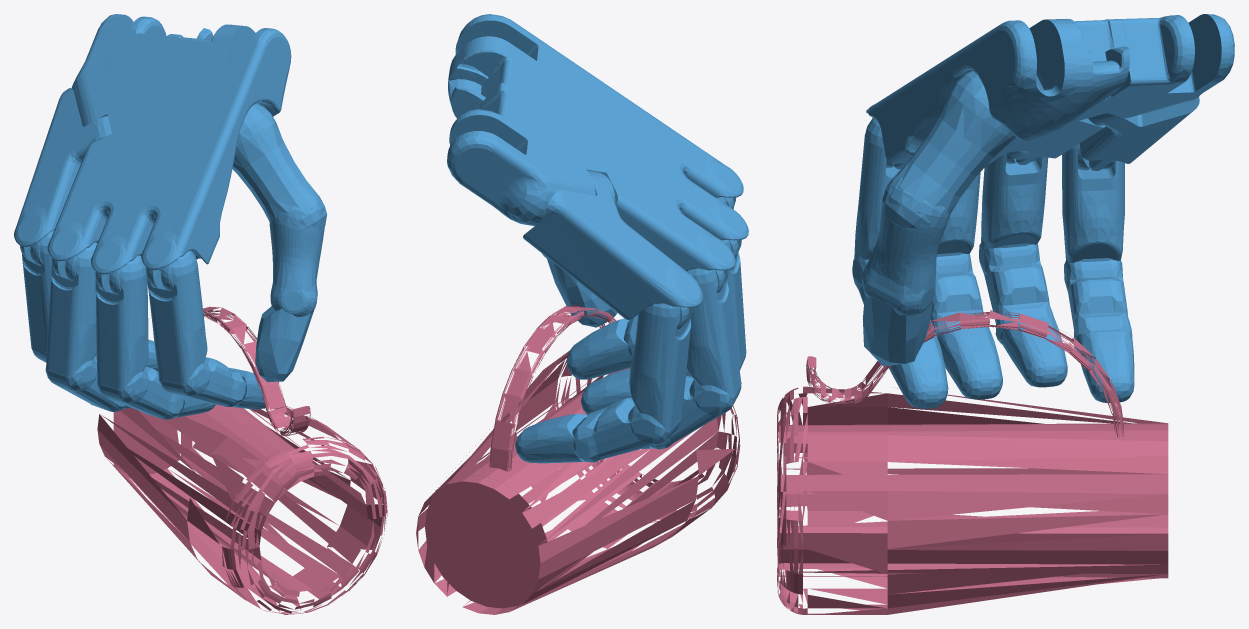
3 views of the same model, side by side, from view 1: azimuth 30°, elevation 25°; view 2: azimuth 150°, elevation 25°; view 3: azimuth 270°, elevation 25° (orthographic). The views are drawn at different scales.
Visible parts, largest first — view 1: 1; view 2: 1; view 3: 1.
Part boxes in pixels (x1=…): 1: x1=14, y1=14, x2=387, y2=614; 1: x1=416, y1=14, x2=748, y2=614; 1: x1=777, y1=14, x2=1234, y2=614.
Size of the model in its own units: 0.1108 by 0.2143 by 0.1454.
